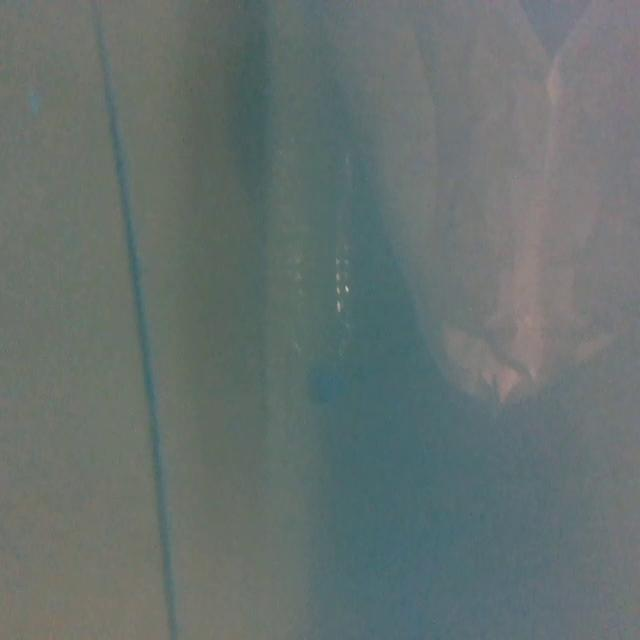plastic bags: (344, 11, 640, 411)
plastic bottle: (283, 131, 351, 416)
